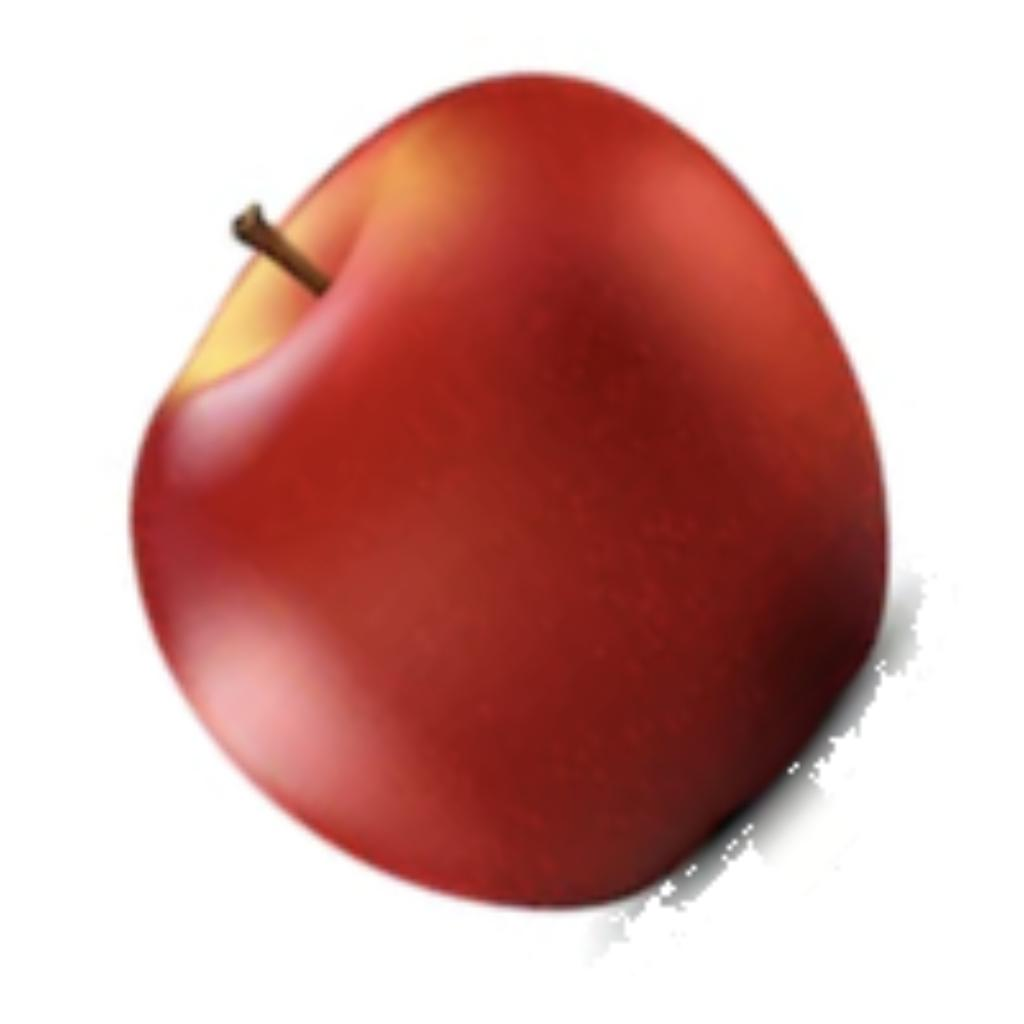apple: (118, 61, 937, 968)
